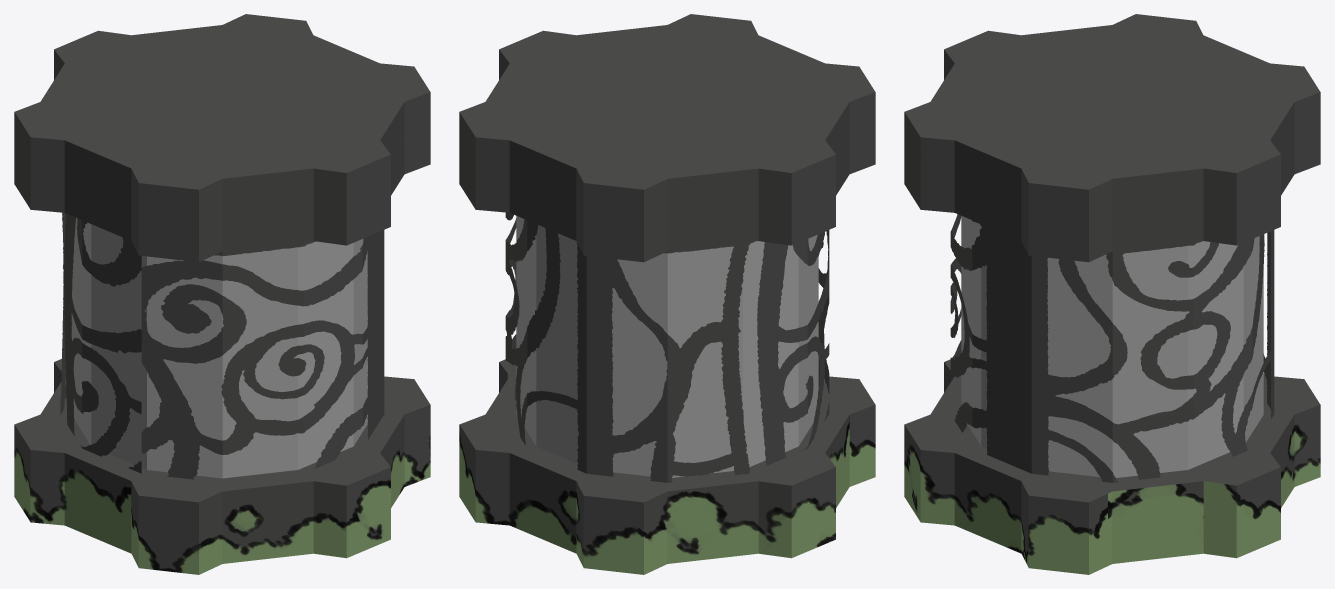
The model's file is Ancient_Shaft.fbx.
3 views of the same model, side by side, from view 1: azimuth 30°, elevation 25°; view 2: azimuth 150°, elevation 25°; view 3: azimuth 270°, elevation 25° (orthographic).
Parts seen in each view (by area): view 1: GiantGear, Light; view 2: GiantGear, Light; view 3: GiantGear, Light.
Boxes of the visible parts, x1,y1,x2,y2 form: GiantGear: (14,14,430,574); Light: (71,218,367,478); GiantGear: (459,14,875,574); Light: (516,216,818,477); GiantGear: (904,14,1320,574); Light: (961,216,1263,477).
Size of the model in its own units: 7.72 by 7.89 by 7.72.
